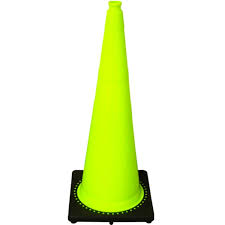cones: (65, 2, 155, 222)
